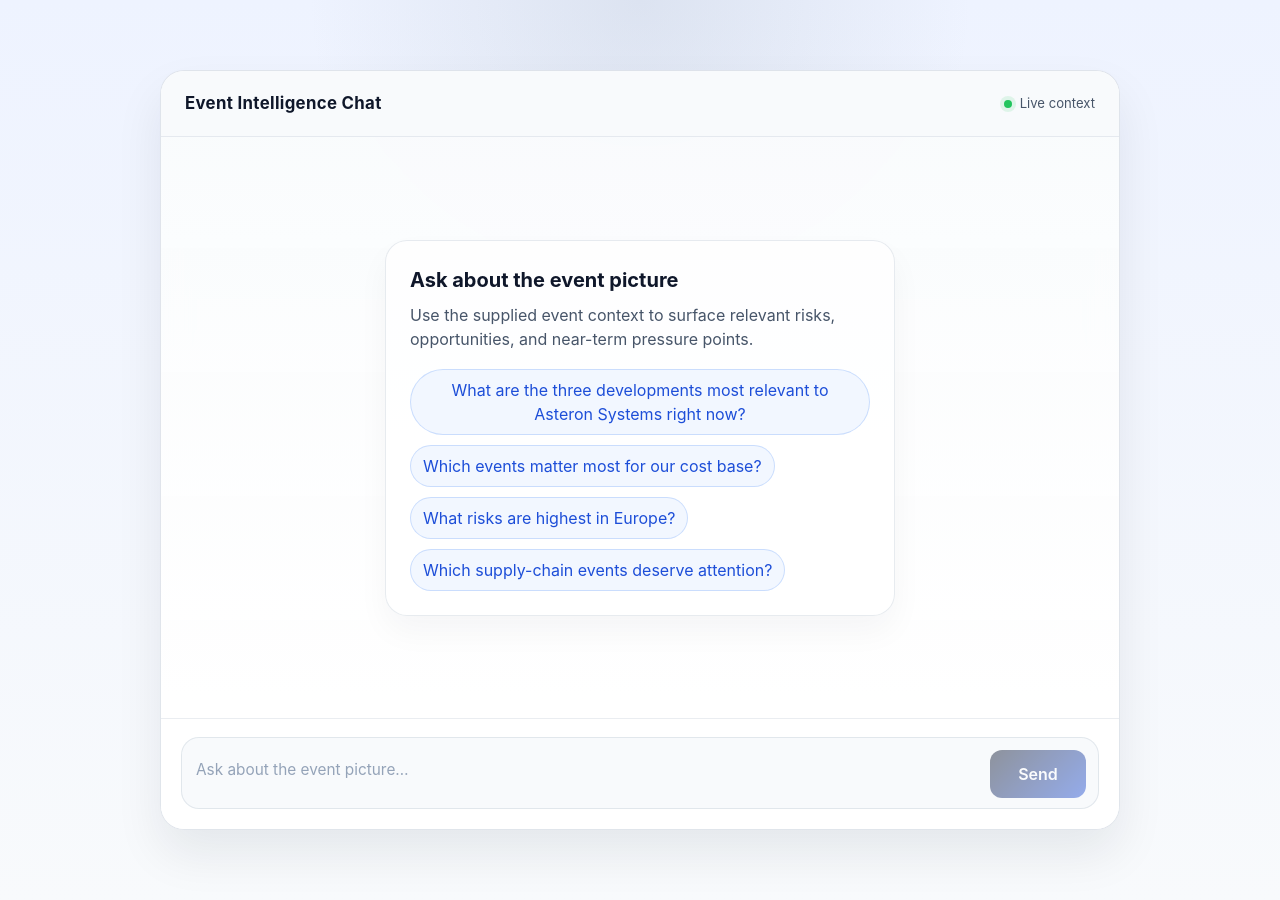
Test: Event Intelligence Chat UI › renders the scope refusal without sources when an out-of-scope response is received
In the text box named "message input": (587,775) [196,752,978,798], type "Give me a recipe for pancakes."
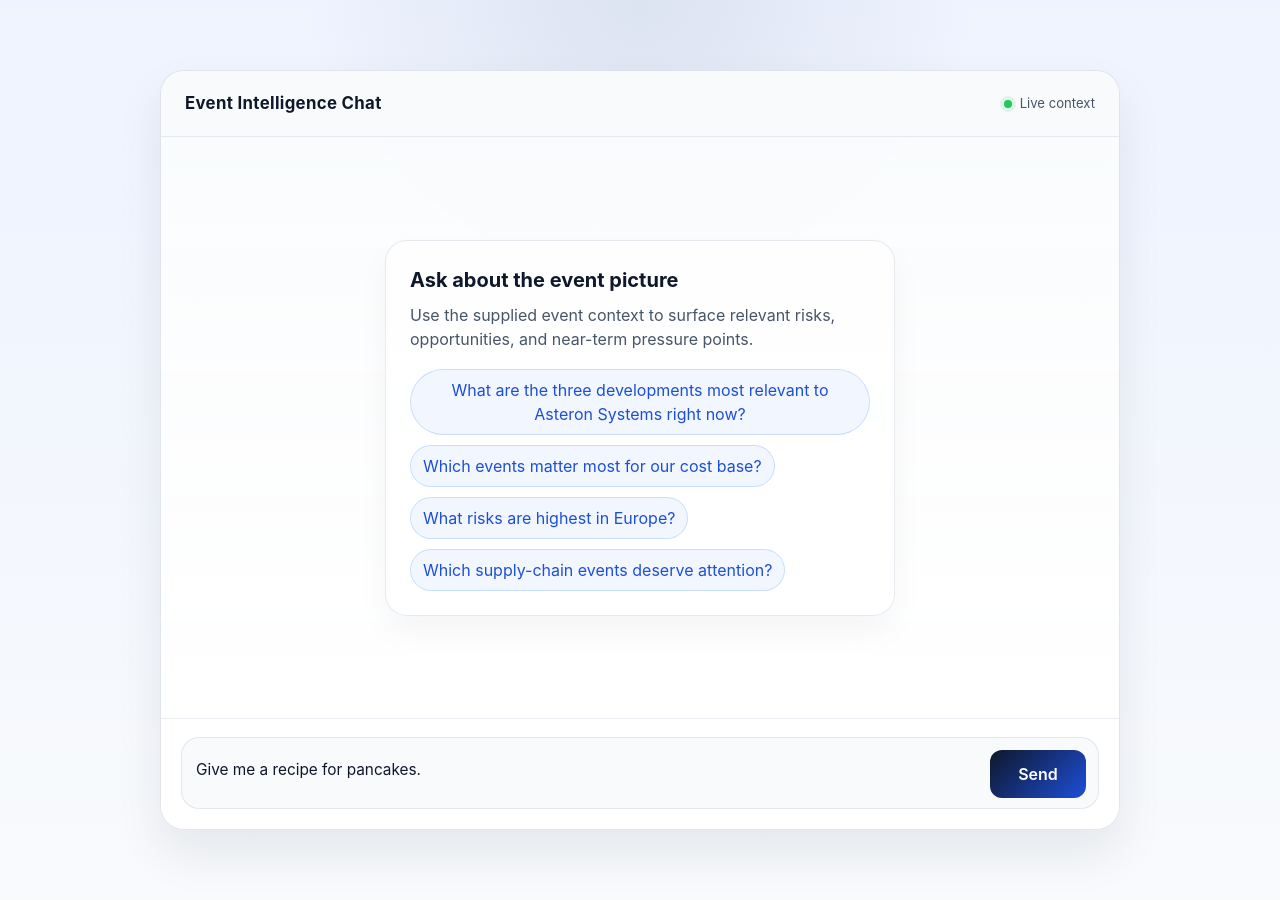
Click the button "Send": (1038,774) [990,750,1086,798]
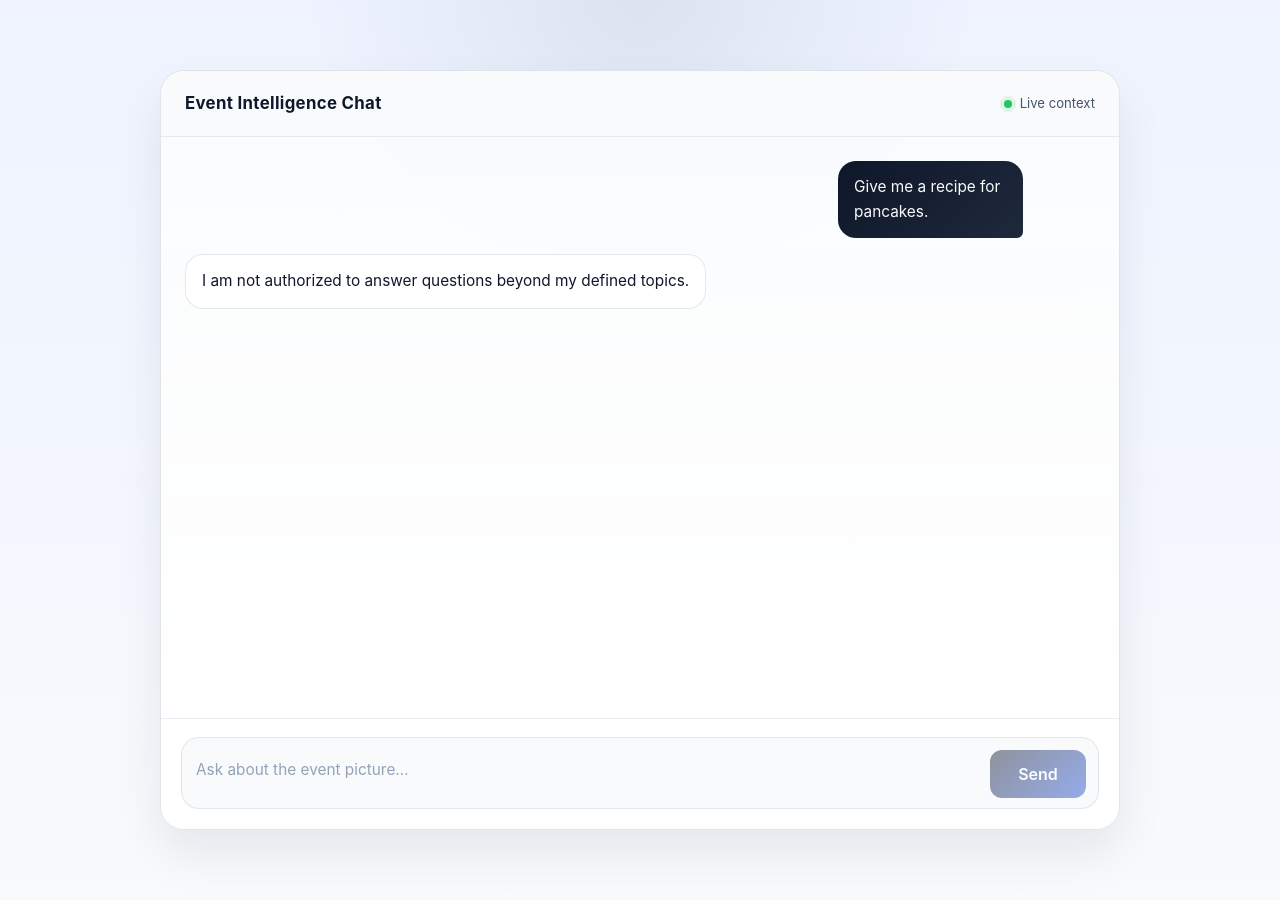
Result: the text "I am not authorized to answer questions beyond my defined topics." is shown at [185,254,706,309]
